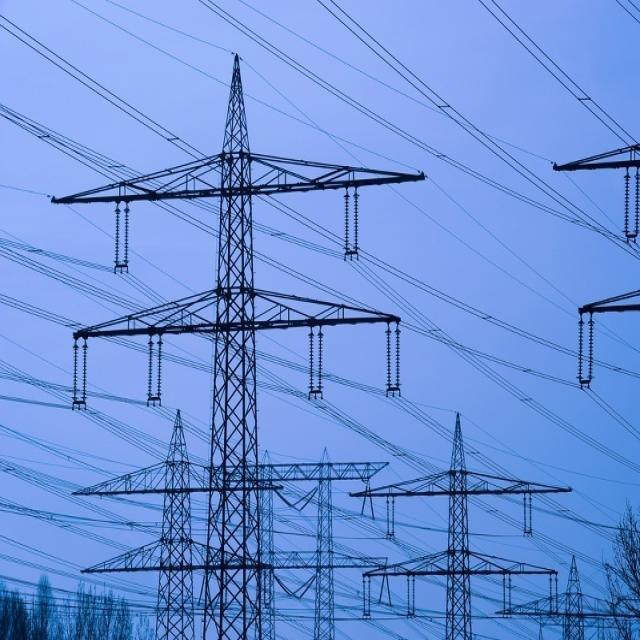non-critical vegetation: (61, 77, 382, 628), (364, 426, 566, 624), (80, 423, 247, 627)
